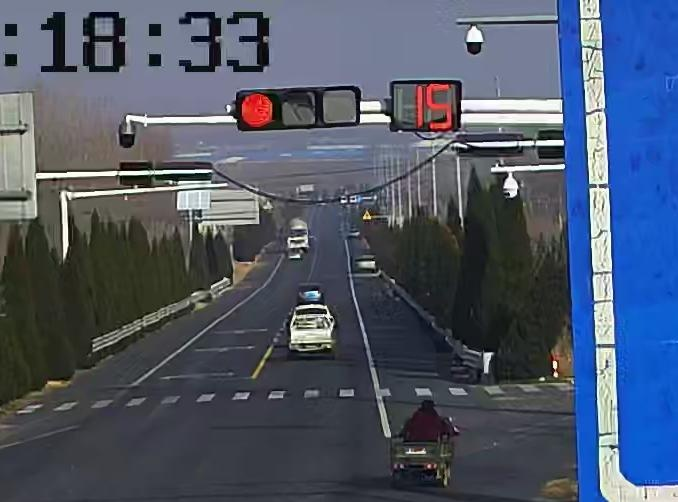red: (239, 91, 275, 129)
redtime: (413, 81, 455, 133)
